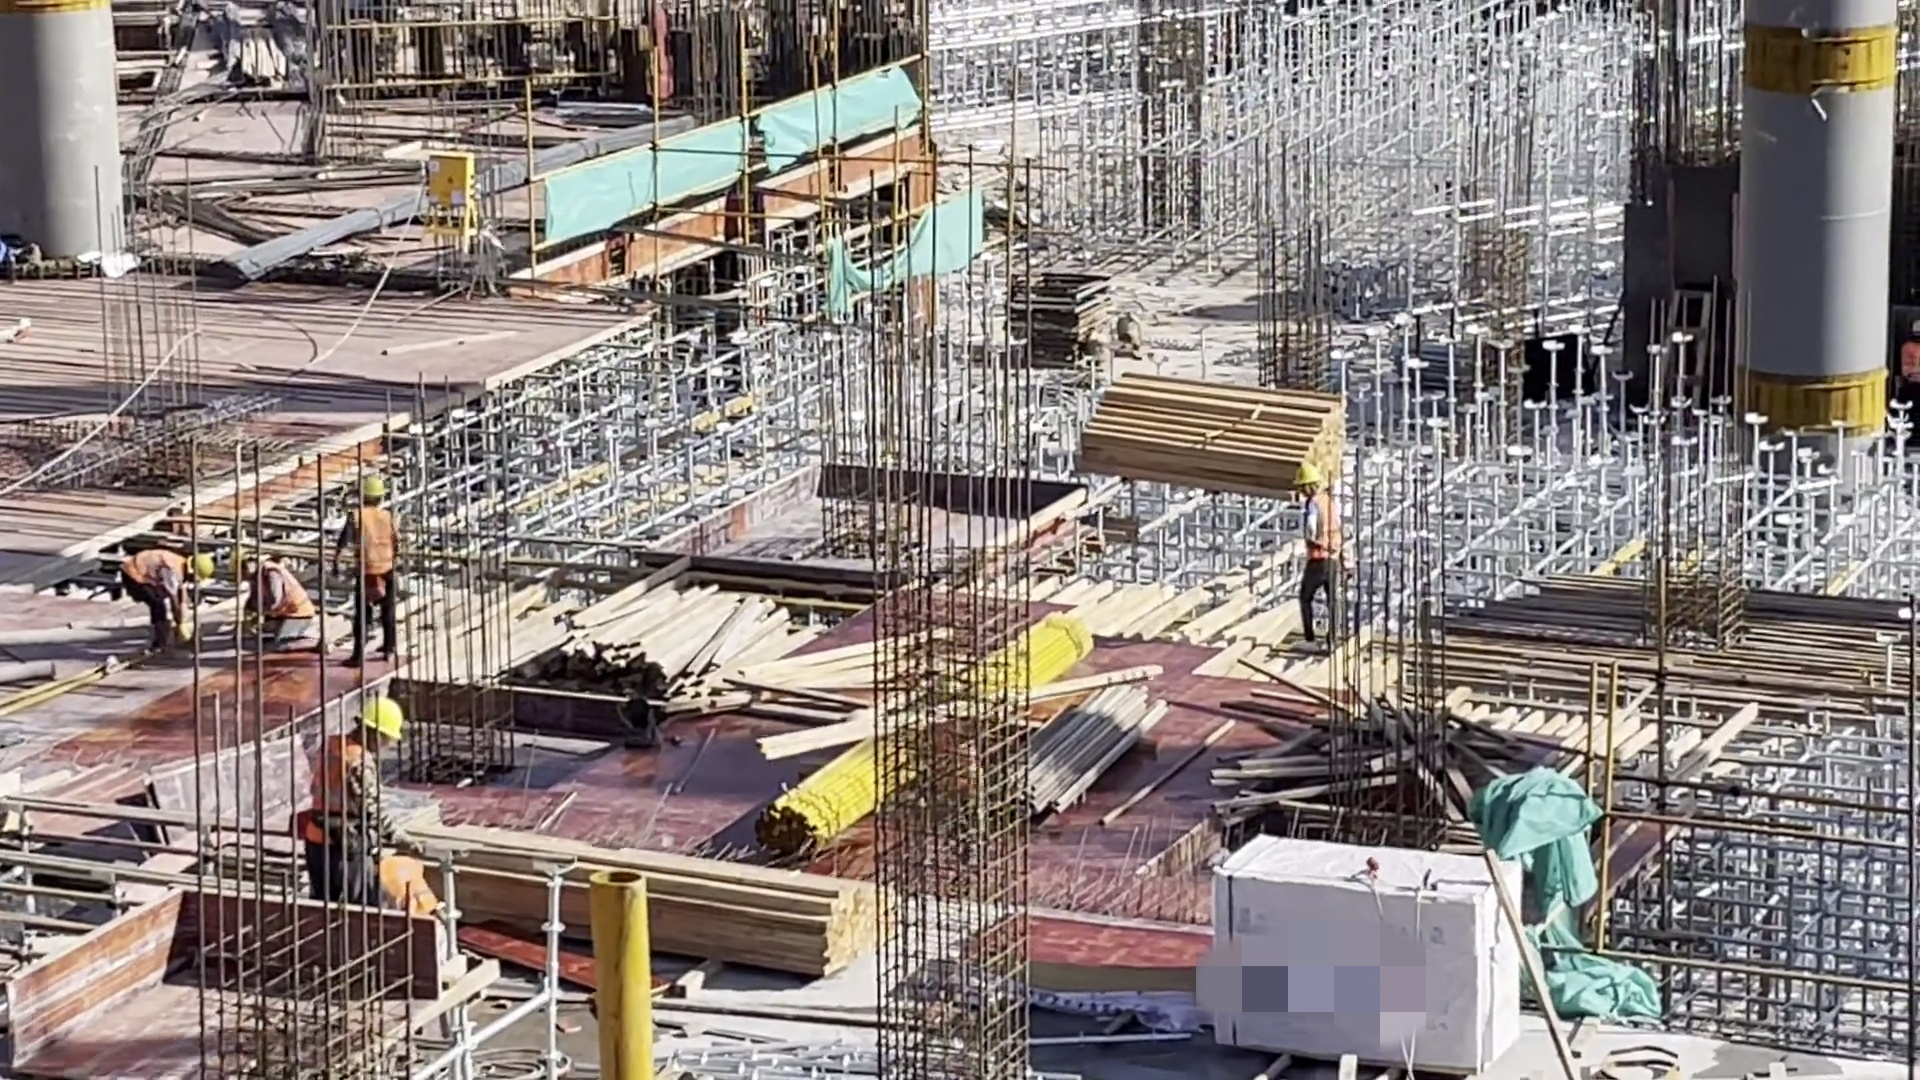helmet: (343, 696, 409, 737), (356, 474, 395, 503), (187, 544, 209, 582), (238, 552, 261, 583), (1291, 462, 1324, 483)
person: (288, 678, 403, 908), (340, 471, 418, 656), (224, 545, 320, 655), (1282, 461, 1338, 637), (114, 531, 215, 625)
vest: (302, 738, 385, 840), (345, 505, 404, 578), (1297, 493, 1346, 562), (114, 544, 193, 586), (257, 557, 305, 614)
